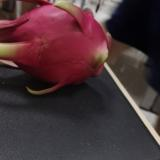pitaya: (1, 2, 112, 91)
